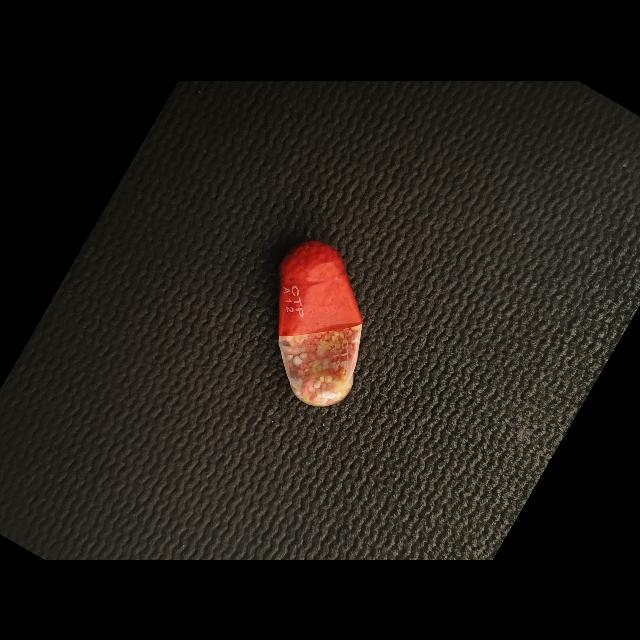Defective Capsule: (278, 240, 363, 406)
